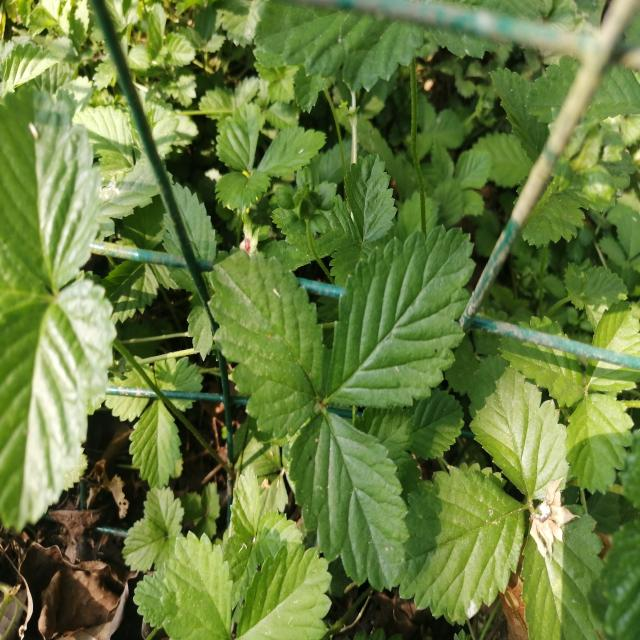Mock_strawberry: (212, 234, 483, 553)
